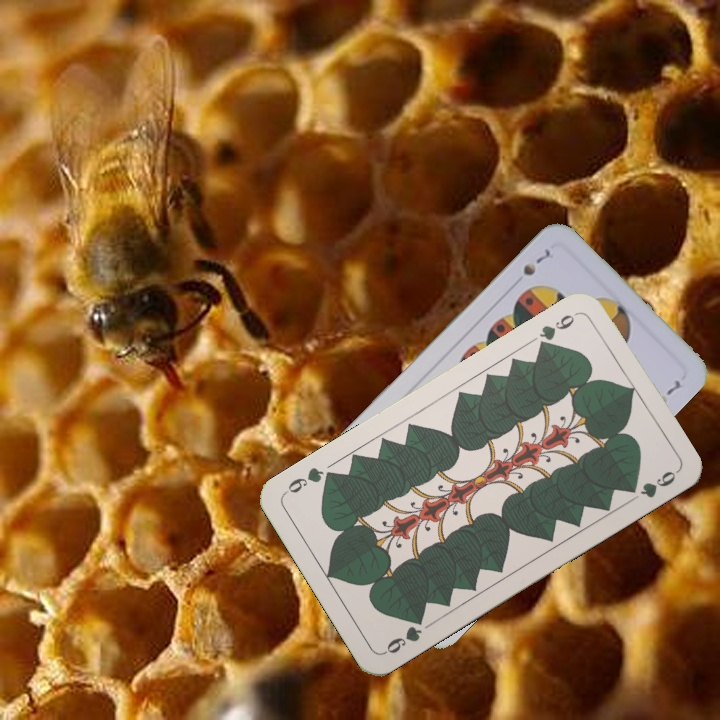G9: (380, 611, 427, 657), (533, 308, 581, 353)
S7: (519, 244, 554, 279)
